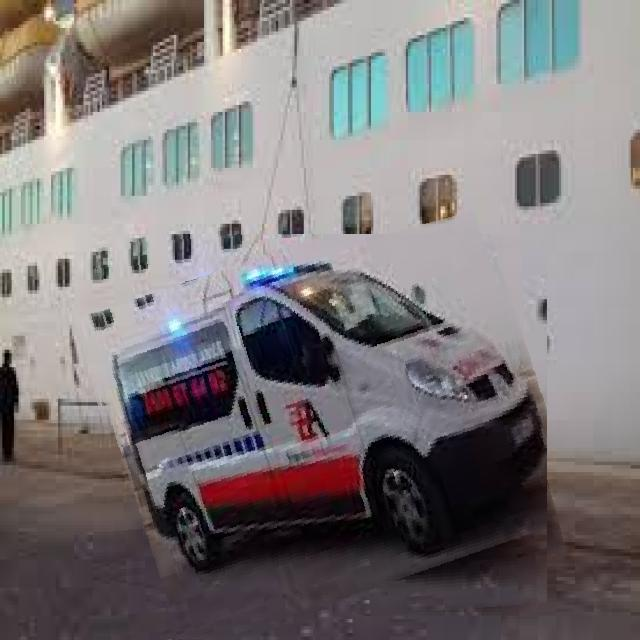ambulance: (94, 234, 547, 635)
